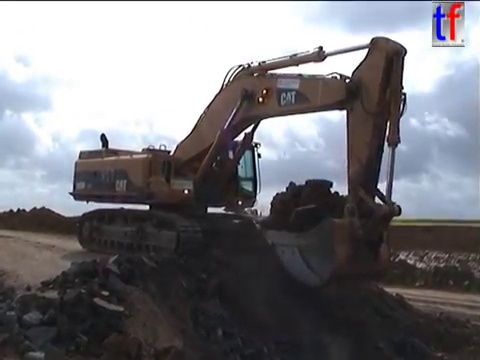excavator: (65, 33, 410, 290)
